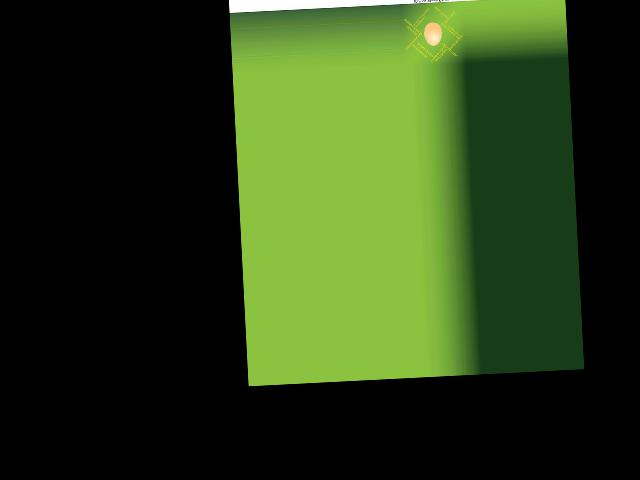egg: (423, 22, 442, 46)
